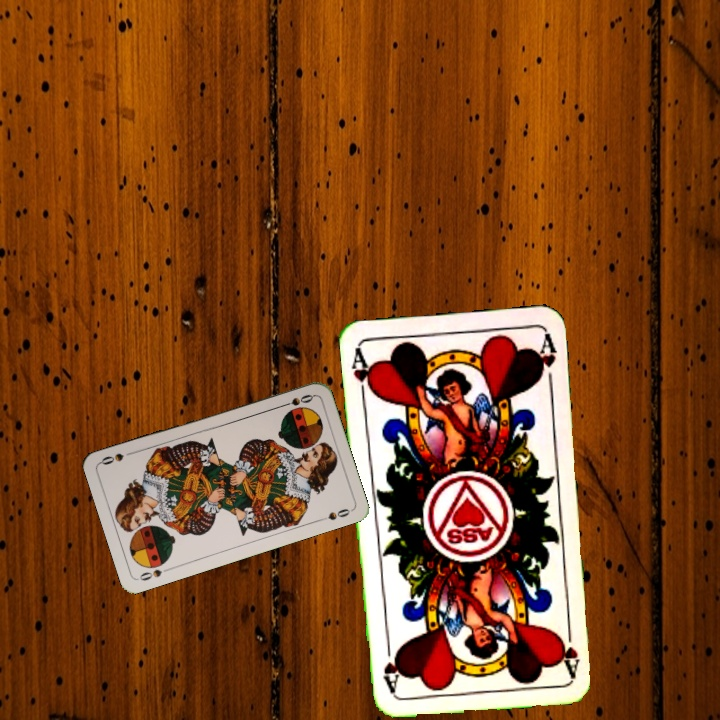HA: (348, 345, 377, 404), (557, 618, 582, 678)
SO: (277, 390, 316, 410), (135, 563, 174, 583)
